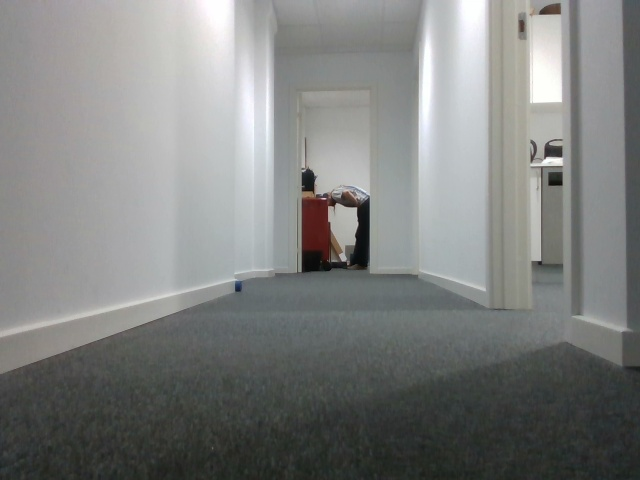alfa: (236, 278, 244, 295)
